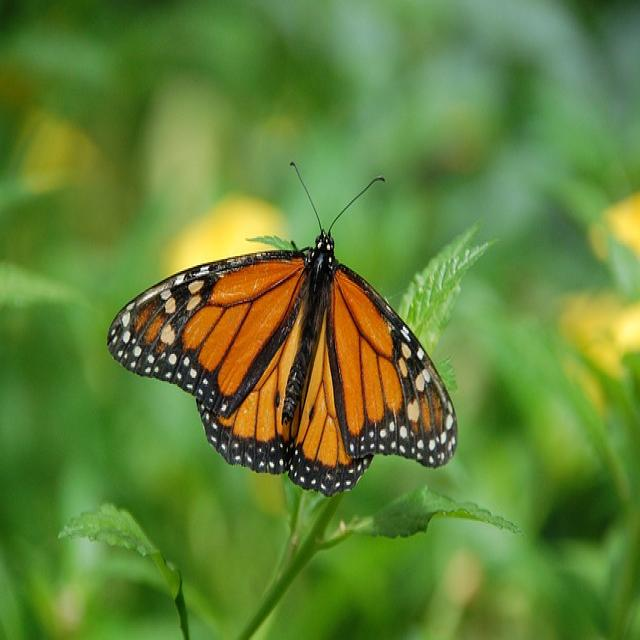butterfly: (110, 230, 458, 494)
